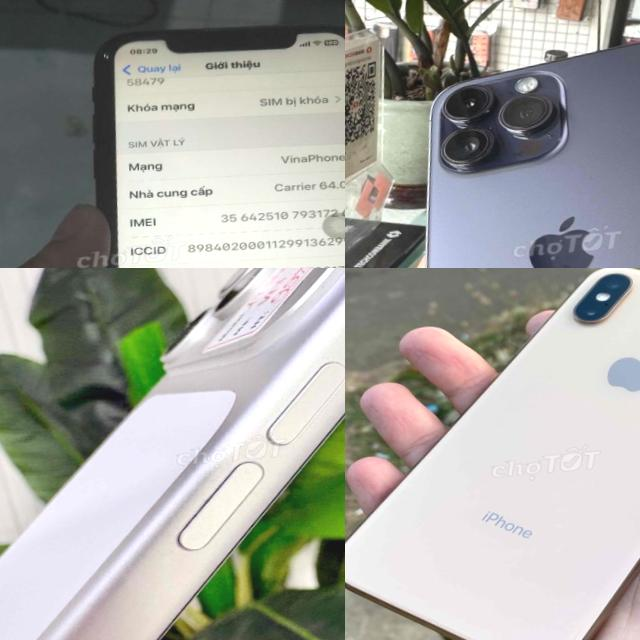gen_14: (376, 30, 640, 268)
gen_17: (0, 268, 345, 640), (203, 268, 311, 352)
gen_x_xs: (345, 268, 640, 640), (74, 25, 345, 268)
